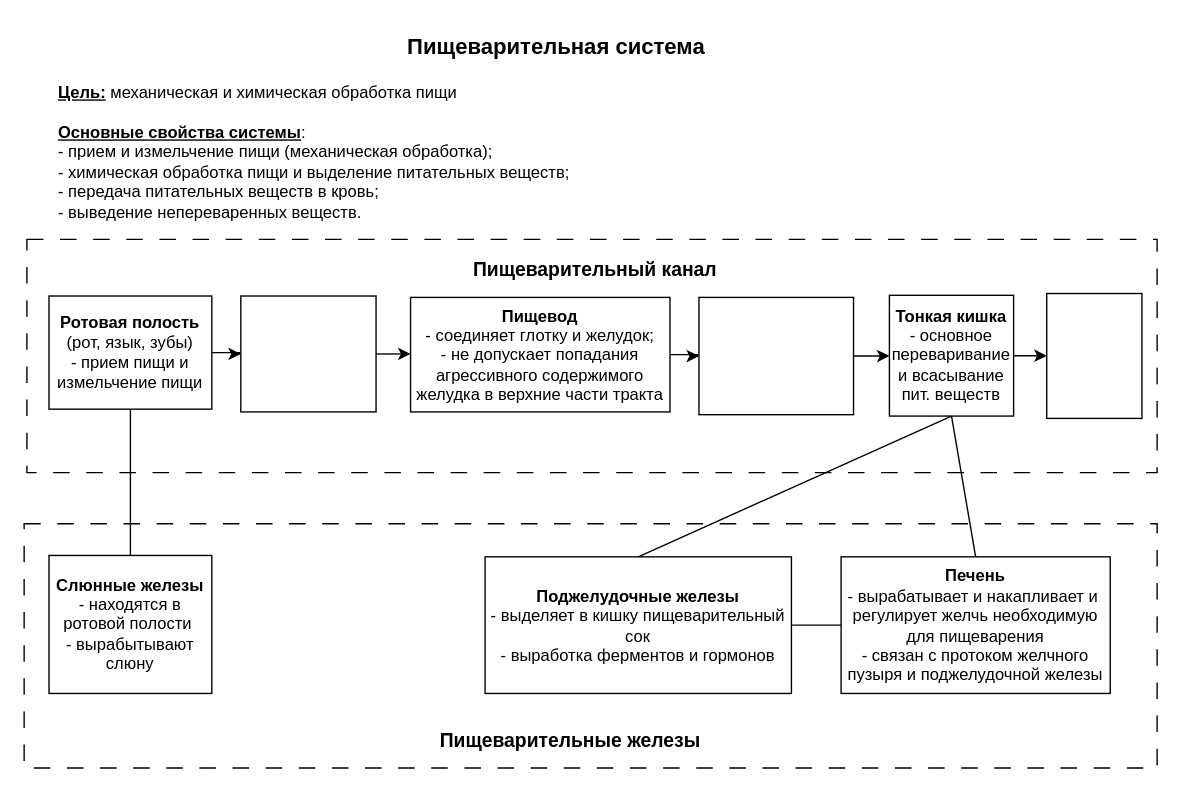
This 1181x792 diagram has some shape labels left out. The shapes that lost their labels are listed below. From the top down, each one's centre as x and y in pixels, then its label:
pixel 307 353: Глотка -передача измельченной пищи в пищевод
pixel 776 355: Желудок - накапливает и переваривает пищу
pixel 1093 355: Толстая кишка - конечная точка тракта
